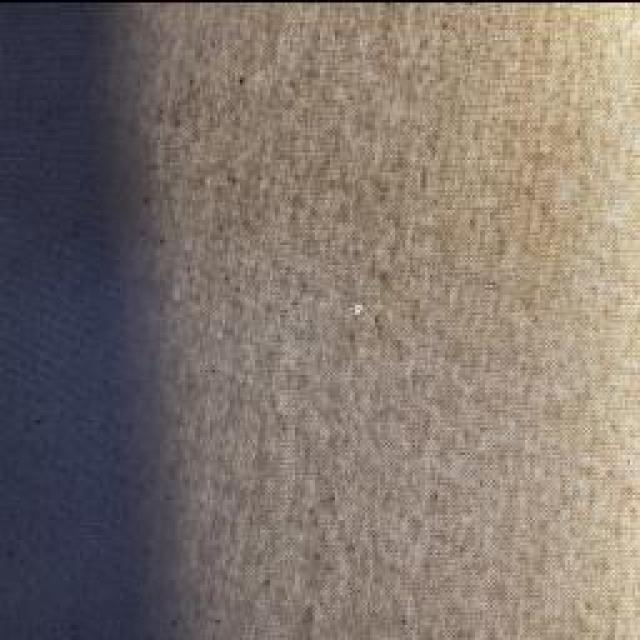other: (279, 274, 417, 355)
